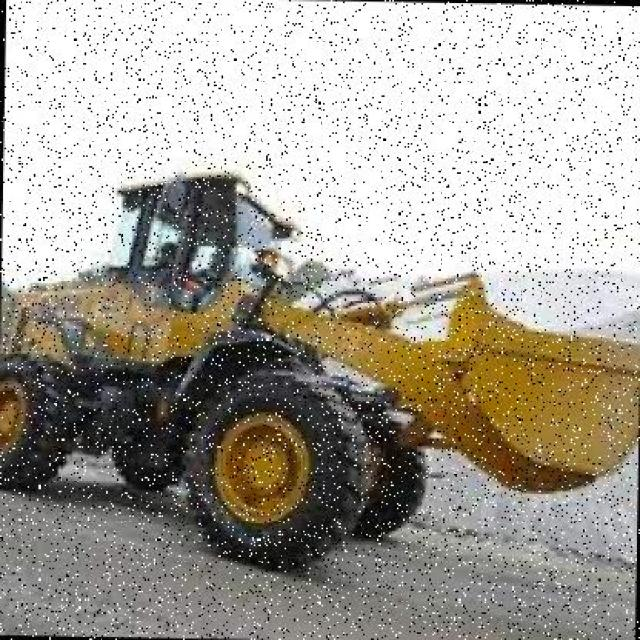buldozerpayloadergrader: (0, 157, 640, 560)
